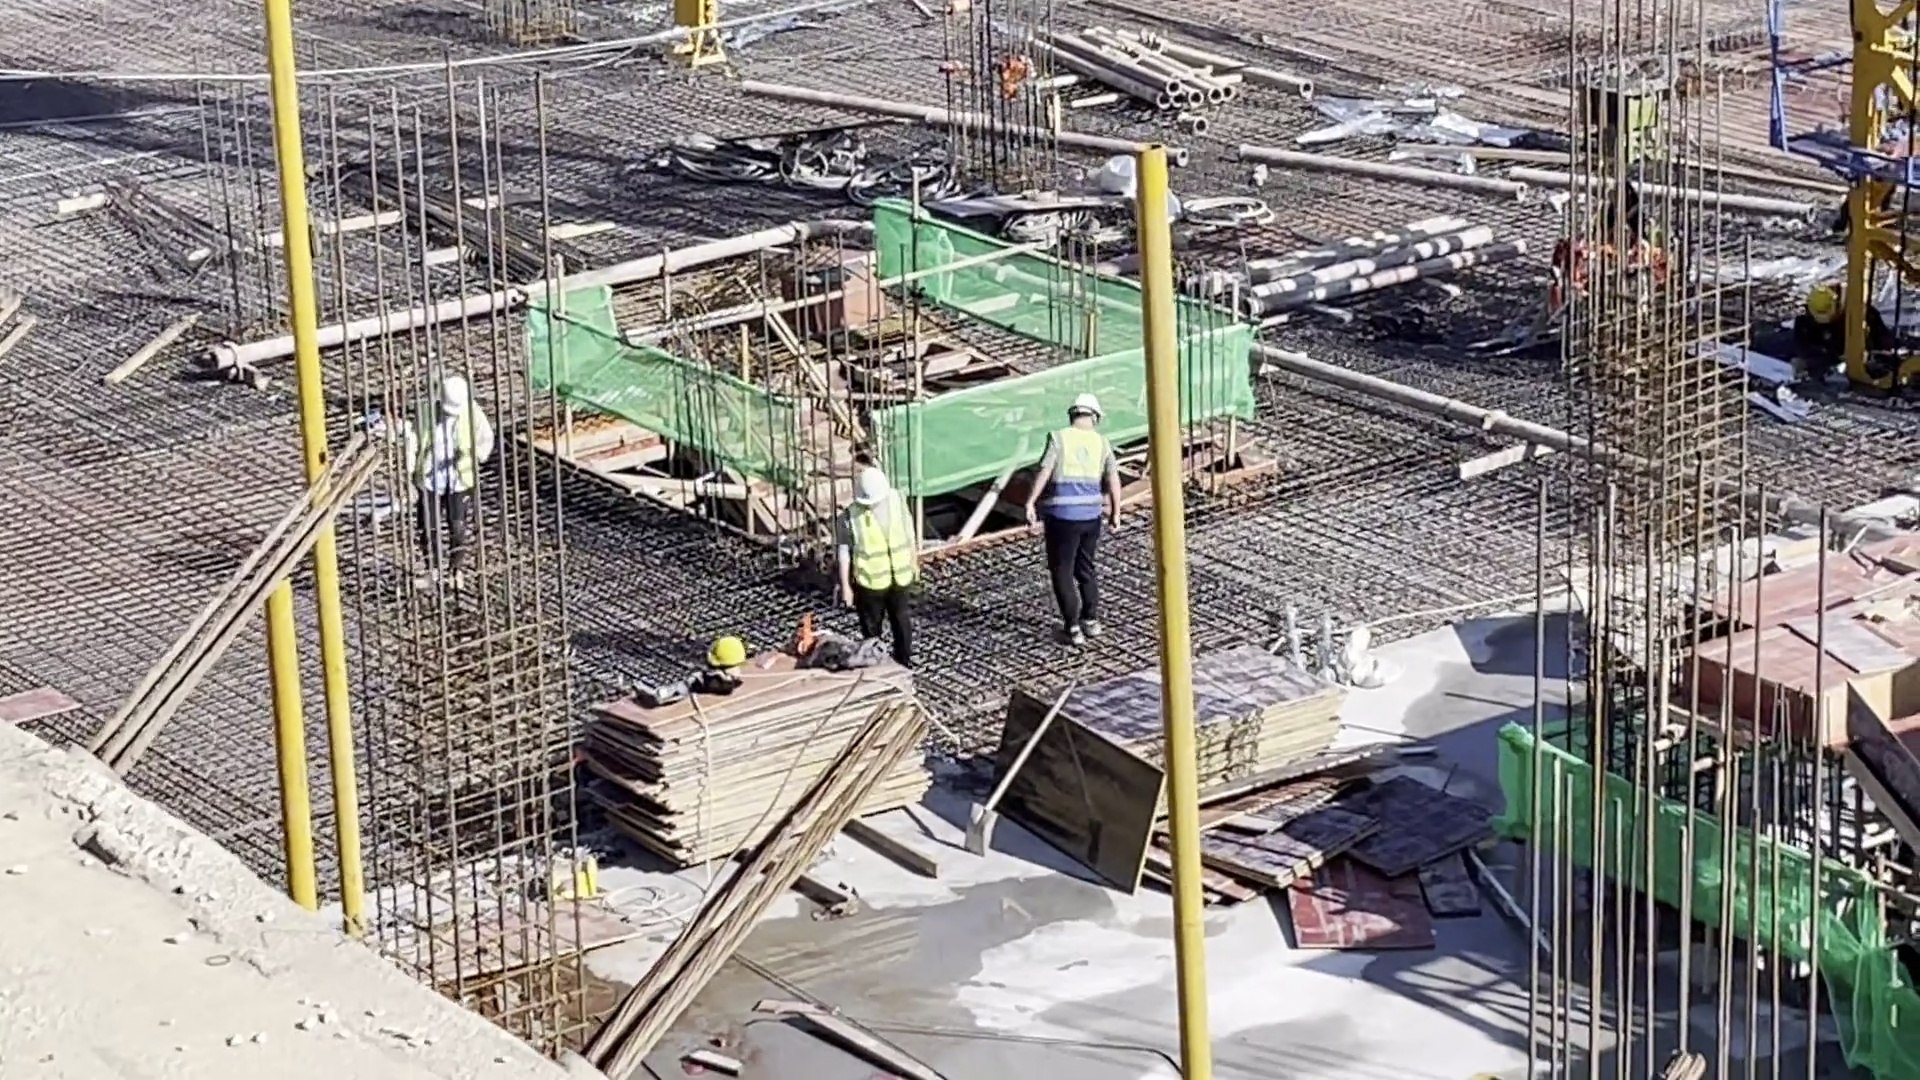board: (587, 628, 936, 873), (1003, 642, 1350, 801)
ebox: (667, 2, 732, 82)
helmet: (436, 376, 476, 416), (851, 469, 894, 503), (706, 636, 743, 672), (1804, 291, 1839, 324), (1072, 398, 1104, 423)
person: (1021, 395, 1119, 645), (825, 464, 922, 658), (411, 376, 497, 576), (1794, 284, 1884, 364)
vest: (1044, 423, 1113, 523), (846, 499, 917, 590), (424, 416, 484, 493)
